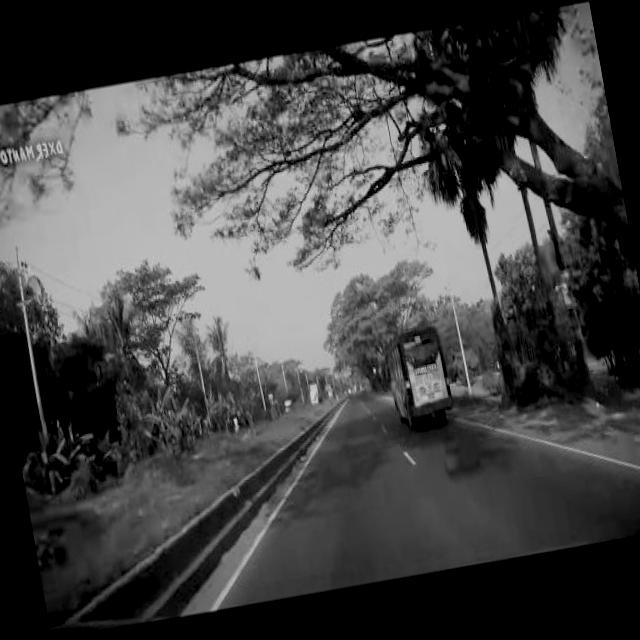bus: (378, 316, 458, 432)
